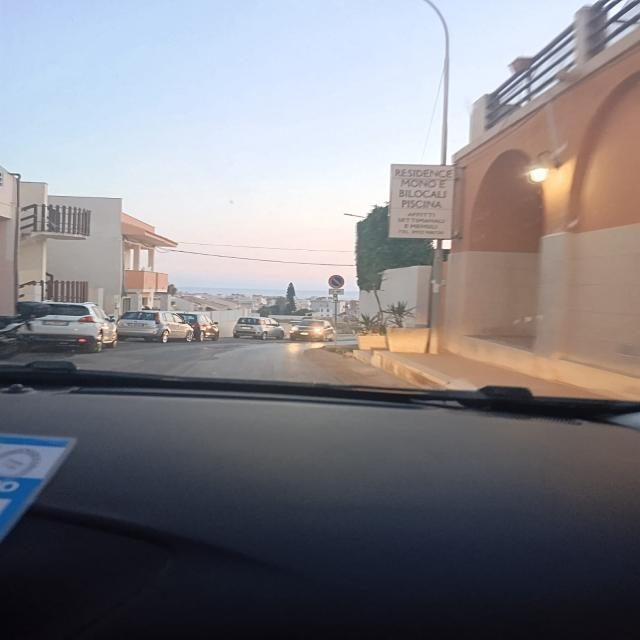forb_stopping: (328, 274, 344, 289)
